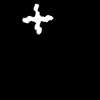single_crochet: (23, 4, 52, 33)
